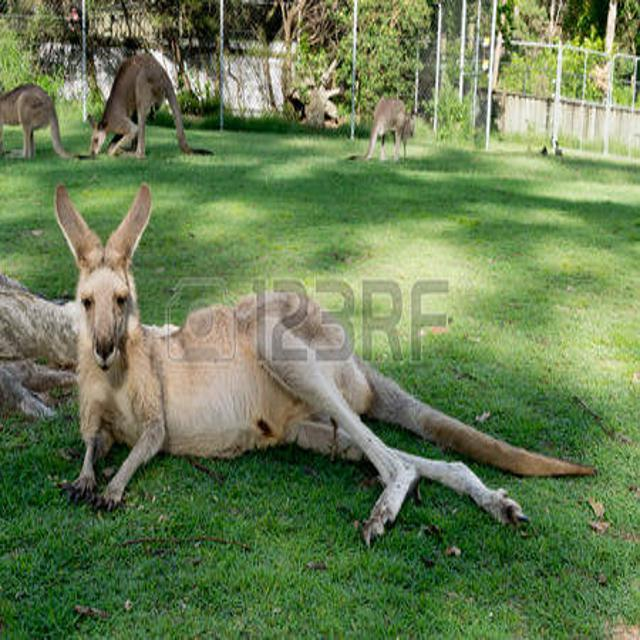kangaroo: (49, 175, 576, 544), (83, 45, 207, 158), (1, 70, 75, 158), (356, 91, 419, 162)
